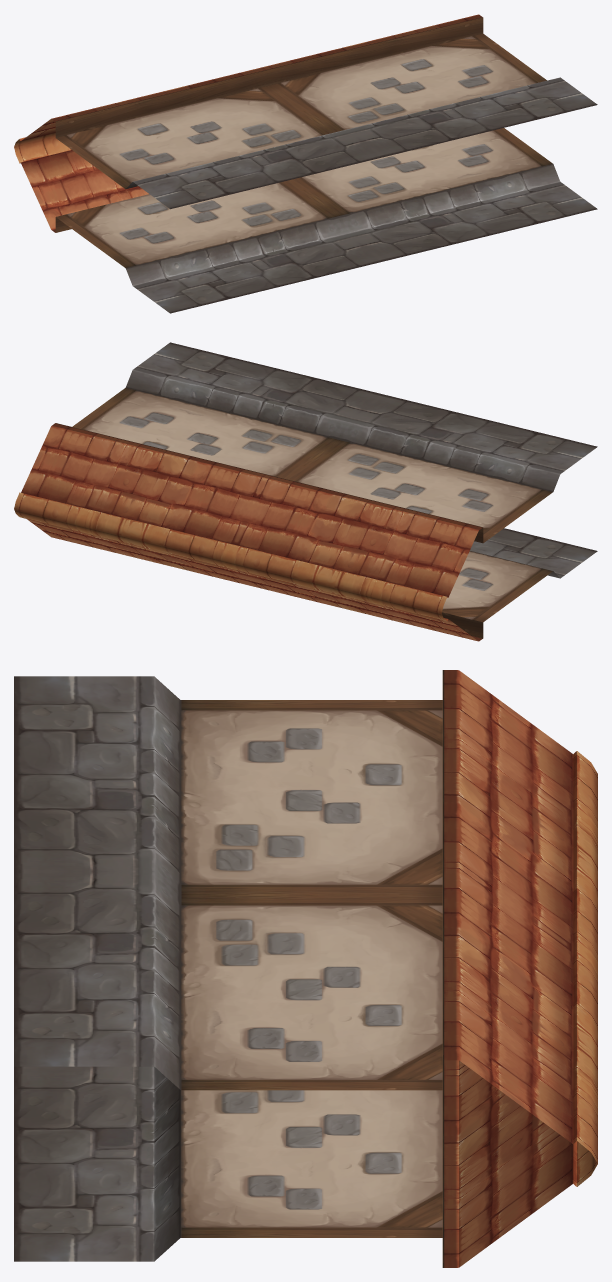
Rendered from Wall_part2.fbx.
3 renders of one model, top to bottom at view 1: azimuth 30°, elevation 25°; view 2: azimuth 150°, elevation 25°; view 3: azimuth 270°, elevation 25°, orthographic. The views are drawn at different scales.
Visible parts, largest first — view 1: Wall_part2; view 2: Wall_part2; view 3: Wall_part2.
Boxes of the visible parts, x1=… form: Wall_part2: x1=14, y1=14, x2=597, y2=313; Wall_part2: x1=14, y1=342, x2=597, y2=641; Wall_part2: x1=14, y1=670, x2=597, y2=1267.
Size of what is drawn, in the model's own units: 7.81 by 1.94 by 4.94.
